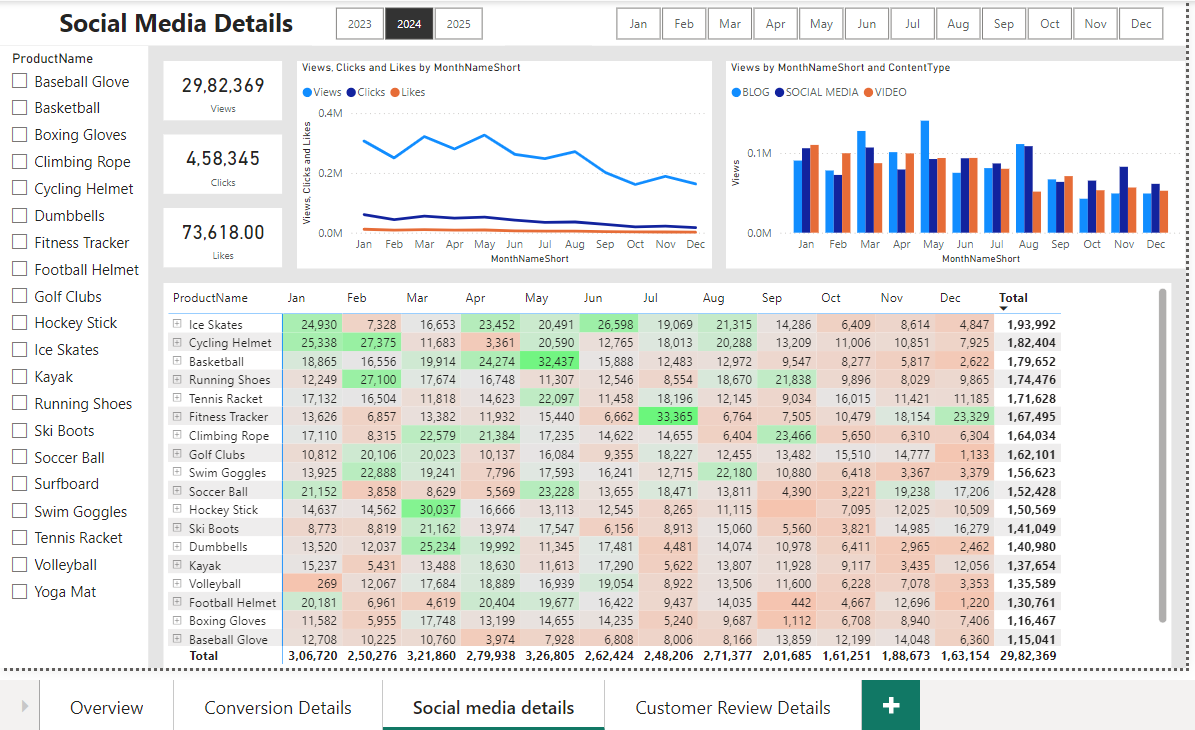

What the dashboard file says about the page in this screenshot:
{"tool":"powerbi","page":{"name":"Social media details","canvas":[1600,750],"ordinal":2},"visuals":[{"type":"textbox","box":[0,0,1632,48],"z":0},{"type":"slicer","fields":{"Values":["dim_products.ProductName"]},"box":[0,64,208,672],"z":1000},{"type":"card","fields":{"Values":["Calculations.Views"]},"box":[224,64,224,64],"z":2000},{"type":"card","fields":{"Values":["Calculations.Clicks"]},"box":[224,144,224,64],"z":3000},{"type":"card","fields":{"Values":["Calculations.Likes"]},"box":[224,224,224,64],"z":4000},{"type":"slicer","fields":{"Values":["Calendar.Year"]},"box":[336,0,336,48],"z":5000},{"type":"slicer","fields":{"Values":["Calendar.MonthNameShort"]},"box":[672,0,928,48],"z":6000},{"type":"lineChart","fields":{"Category":["Calendar.MonthNameShort"],"Y":["Calculations.Views","Calculations.Clicks","Calculations.Likes"]},"box":[464,64,528,224],"z":7000},{"type":"clusteredColumnChart","fields":{"Category":["Calendar.MonthNameShort"],"Y":["Calculations.Views"],"Series":["fact_engagement_data.ContentType"]},"box":[1008,64,576,224],"z":8000},{"type":"pivotTable","fields":{"Rows":["dim_products.ProductName","fact_engagement_data.ContentType"],"Columns":["Calendar.MonthNameShort"],"Values":["Calculations.Views"]},"box":[224,304,1360,432],"z":9000}]}

Visuals, with their boxes on the page's 1600x750 design canvas (x1, y1, x2, y2). These are canvas units, not pixel positions in the 1195x730 screenshot, which may show the page scaled, cropped or inside an application window:
textbox: [0, 0, 1632, 48]
slicer - dim_products.ProductName: [0, 64, 208, 736]
card - Calculations.Views: [224, 64, 448, 128]
card - Calculations.Clicks: [224, 144, 448, 208]
card - Calculations.Likes: [224, 224, 448, 288]
slicer - Calendar.Year: [336, 0, 672, 48]
slicer - Calendar.MonthNameShort: [672, 0, 1600, 48]
lineChart - Calendar.MonthNameShort x Calculations.Views: [464, 64, 992, 288]
clusteredColumnChart - Calendar.MonthNameShort x Calculations.Views: [1008, 64, 1584, 288]
pivotTable - dim_products.ProductName x fact_engagement_data.ContentType: [224, 304, 1584, 736]
